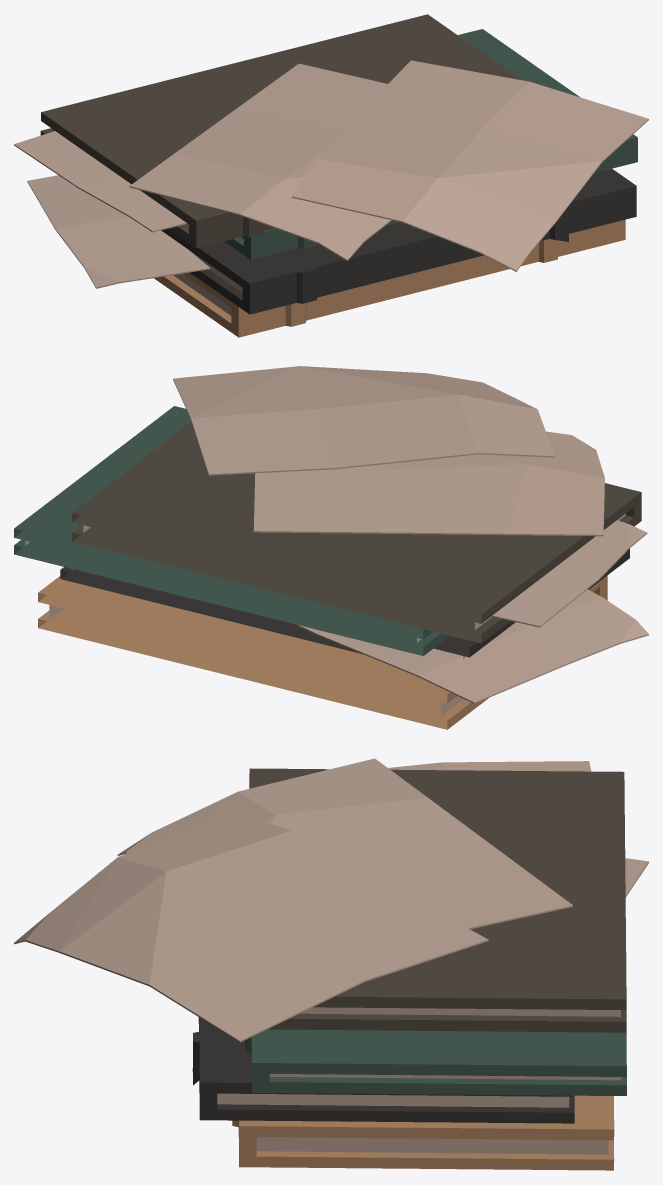
Rendered from Books.glb.
3 renders of one model, top to bottom at view 1: azimuth 30°, elevation 25°; view 2: azimuth 150°, elevation 25°; view 3: azimuth 270°, elevation 25°, orthographic. The views are drawn at different scales.
Visible parts, largest first — view 1: Books; view 2: Books; view 3: Books.
Boxes of the visible parts, bbox=[...] form: Books: bbox=[14, 14, 648, 337]; Books: bbox=[14, 366, 648, 729]; Books: bbox=[14, 758, 648, 1170].
Size of what is drawn, in the model's own units: 0.872 by 0.2366 by 0.7831.
Materials: 1 (1 with a texture image).
